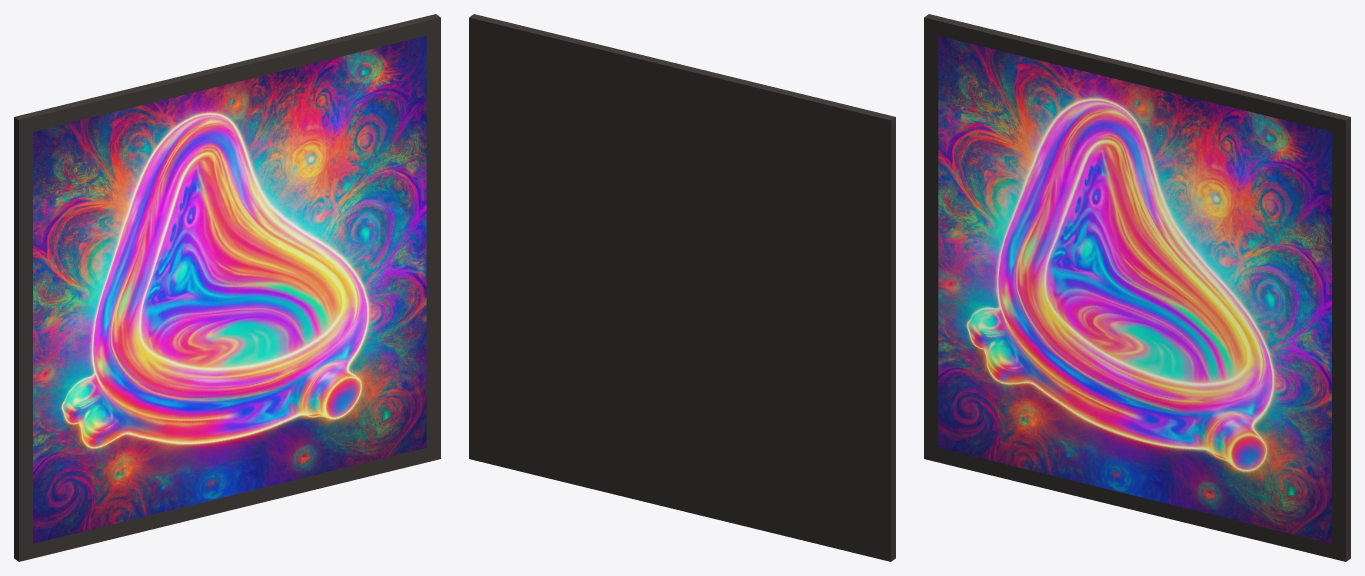
The model's file is picture_05_archetype.glb.
3 views of the same model, side by side, from view 1: azimuth 30°, elevation 25°; view 2: azimuth 150°, elevation 25°; view 3: azimuth 330°, elevation 25° (orthographic).
Parts seen in each view (by area): view 1: picture_05_archetype_nocol; view 2: picture_05_archetype_nocol; view 3: picture_05_archetype_nocol.
Boxes of the visible parts, x1=… form: picture_05_archetype_nocol: x1=14, y1=14, x2=440, y2=561; picture_05_archetype_nocol: x1=469, y1=14, x2=895, y2=561; picture_05_archetype_nocol: x1=924, y1=14, x2=1350, y2=561.
Size of the model in its own units: 1.5 by 1.5 by 0.03.
2 materials, 1 textured.
